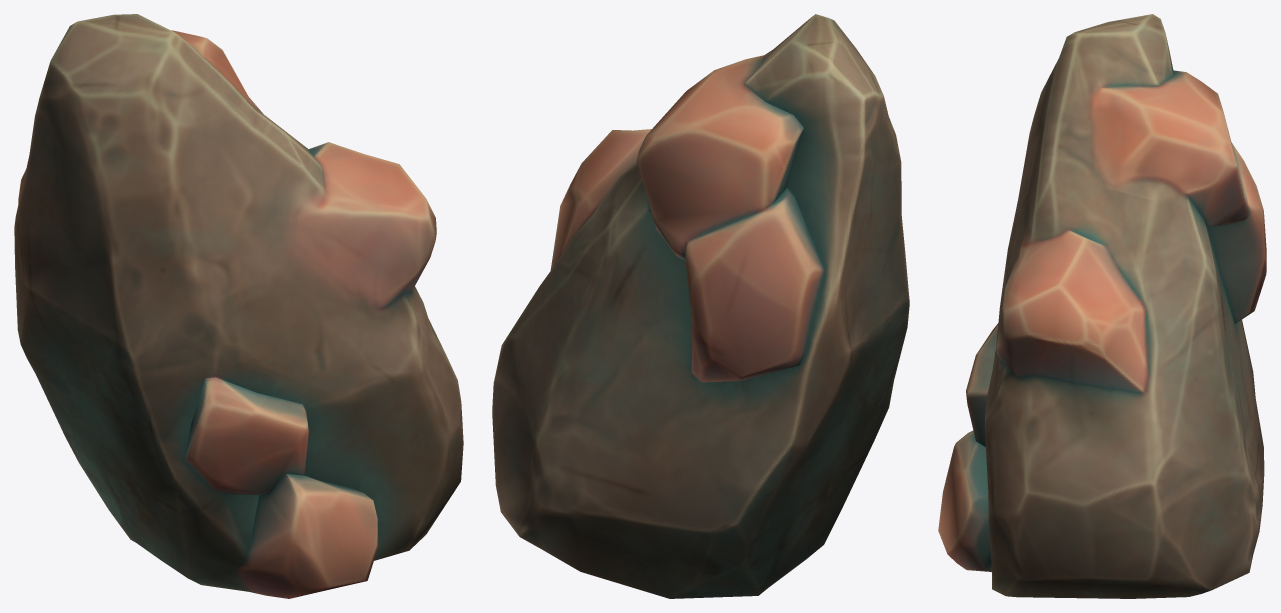
The model's file is SM_Gem_Copper_005.fbx.
The picture shows the model from 3 angles, left to right: view 1: azimuth 30°, elevation 25°; view 2: azimuth 150°, elevation 25°; view 3: azimuth 270°, elevation 25°; orthographic projection. The views are drawn at different scales.
Parts seen in each view (by area): view 1: SM_Gem_Copper_005; view 2: SM_Gem_Copper_005; view 3: SM_Gem_Copper_005.
Part boxes in pixels (<box>): SM_Gem_Copper_005: <box>14,14,463,598</box>; SM_Gem_Copper_005: <box>492,14,909,598</box>; SM_Gem_Copper_005: <box>938,14,1266,598</box>.
Size of the model in its own units: 52.62 by 73.42 by 44.62.
